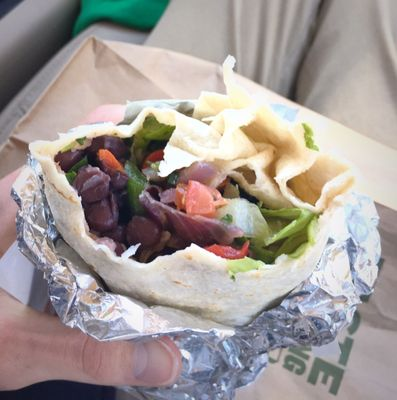burger: (31, 104, 380, 330)
